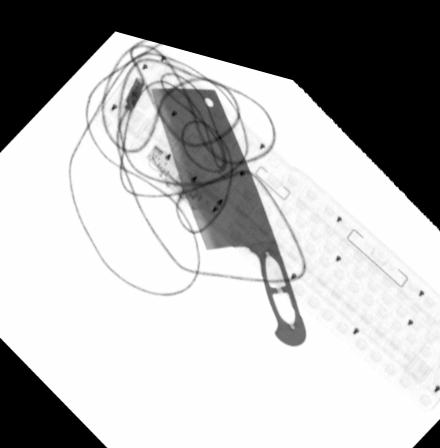Knife: (149, 75, 307, 330)
